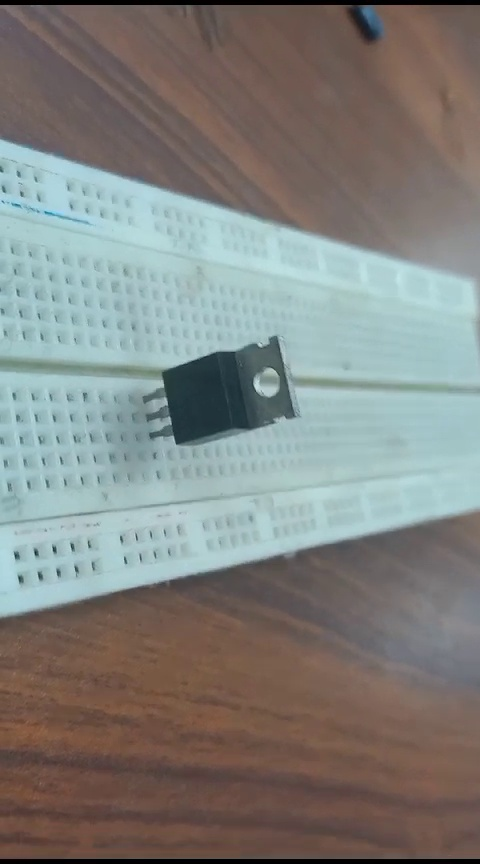voltage regulator: (124, 339, 305, 457)
